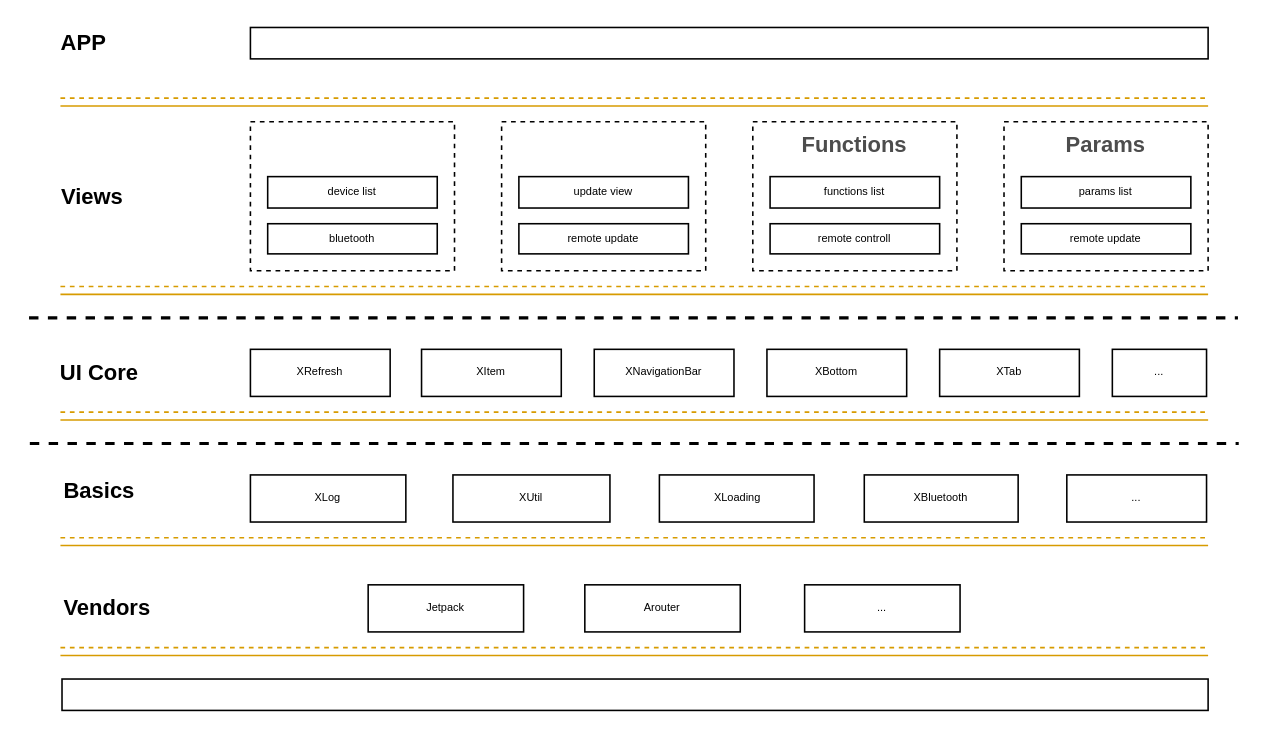
This 1269x738 diagram has some shape labels left out. Each missing label, with the box of its shape:
Android Application Framework: (60, 677, 1208, 710)
BlackCorrect: (500, 120, 706, 271)
Home: (249, 120, 455, 271)
Portal: (249, 26, 1208, 59)
